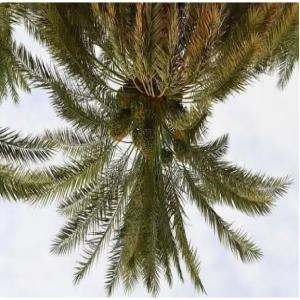palm tree: (1, 2, 298, 296)
